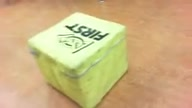cube: (27, 11, 129, 108)
